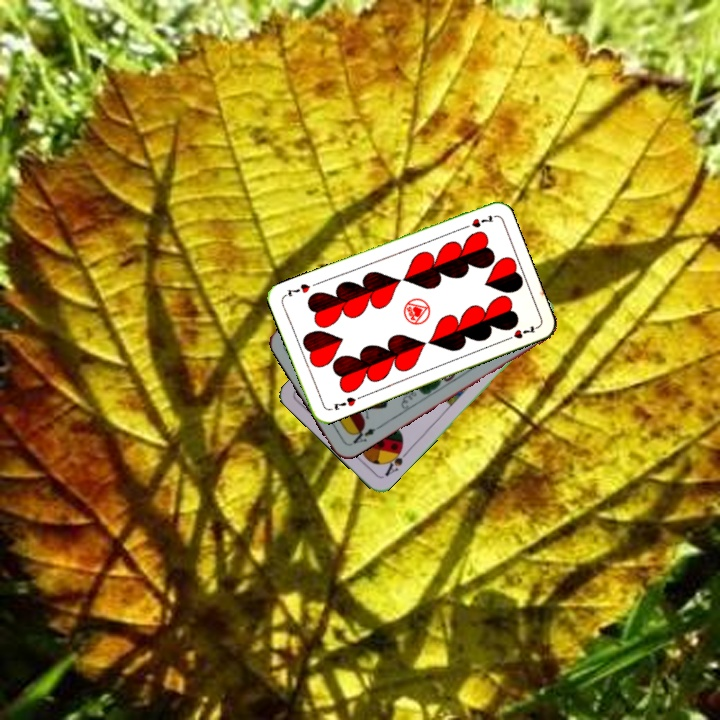EA: (346, 422, 383, 448)
H7: (457, 211, 497, 232), (330, 393, 358, 413)
SA: (380, 443, 411, 479)
